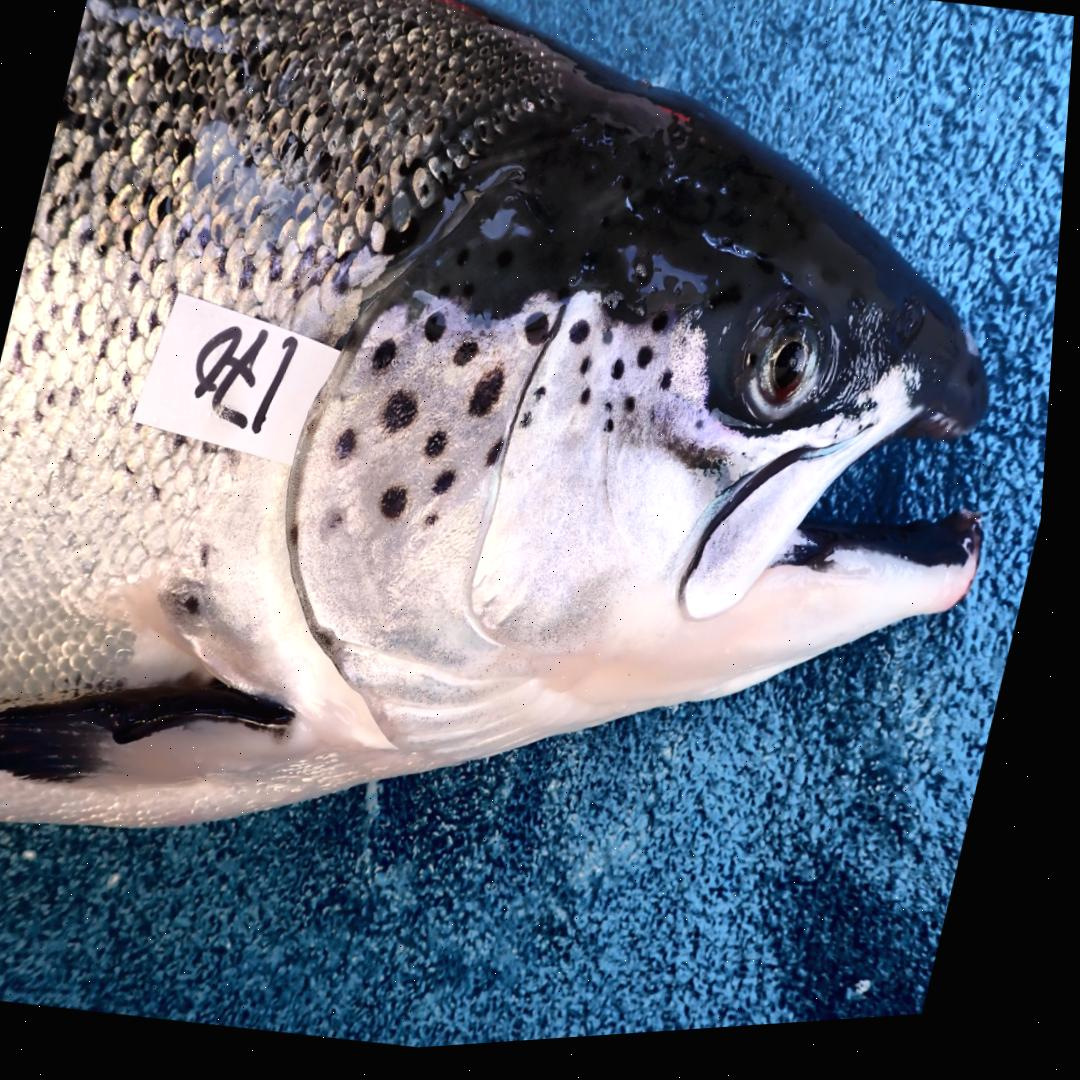spot: (473, 375, 509, 424), (386, 396, 423, 437), (386, 491, 414, 526), (375, 344, 402, 378), (528, 319, 554, 354), (427, 317, 451, 347), (457, 346, 483, 372), (340, 434, 362, 463), (438, 476, 462, 502), (429, 437, 452, 463), (573, 327, 594, 353), (491, 445, 509, 473), (331, 512, 352, 536), (656, 320, 673, 342), (641, 355, 658, 376), (616, 367, 629, 388), (651, 416, 666, 434), (524, 418, 537, 436), (666, 379, 677, 400), (584, 396, 597, 413), (584, 363, 595, 381), (629, 404, 640, 422), (539, 393, 551, 408), (608, 410, 620, 425), (431, 519, 445, 531), (606, 336, 617, 351), (700, 428, 711, 443), (610, 426, 620, 440)
